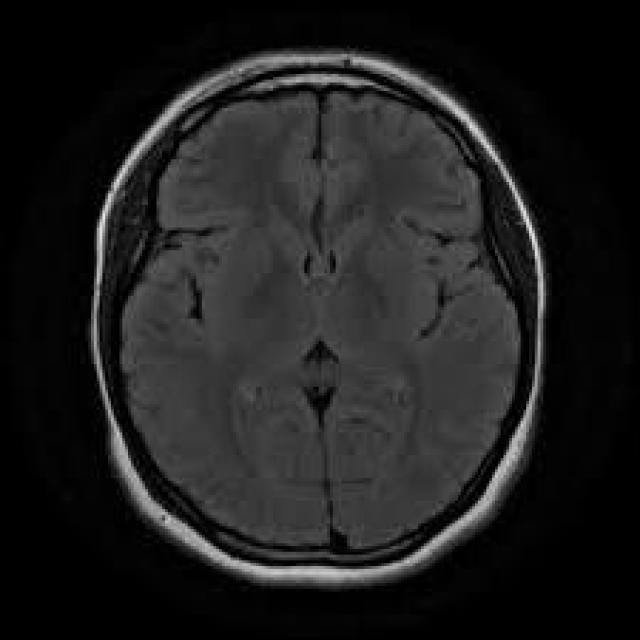notumor: (88, 48, 549, 594)
